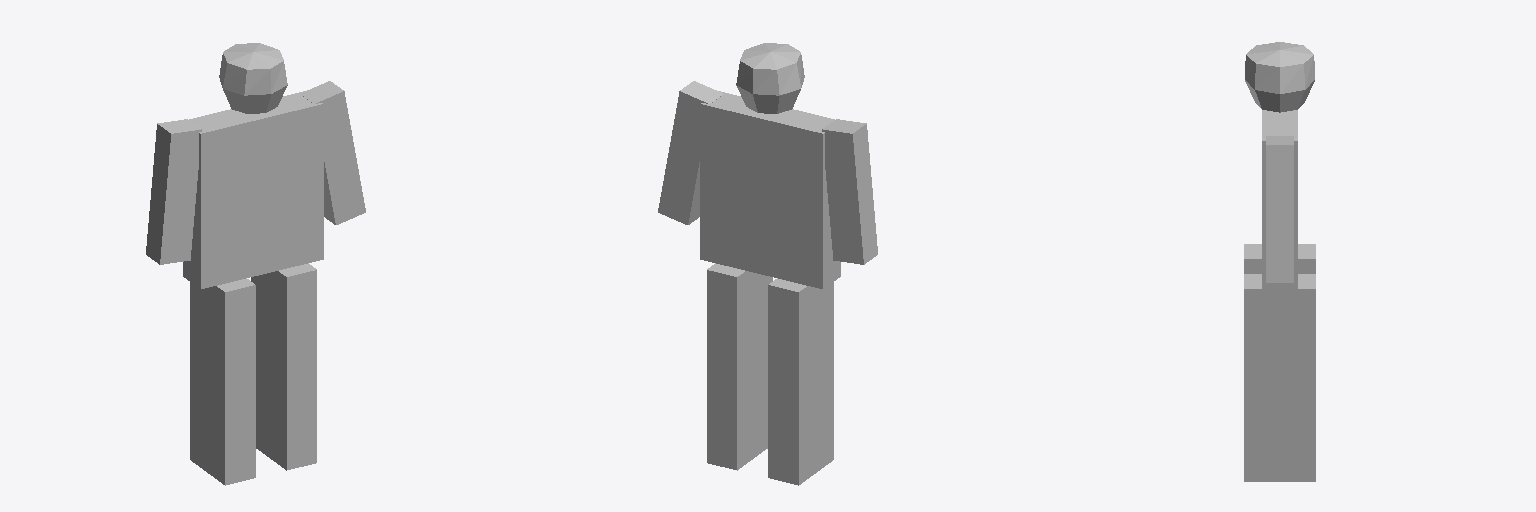
The model's file is Man002.obj.
3 renders of one model, left to right at view 1: azimuth 30°, elevation 25°; view 2: azimuth 150°, elevation 25°; view 3: azimuth 270°, elevation 25°, orthographic.
Parts seen in each view (by area): view 1: Man001; view 2: Man001; view 3: Man001.
Boxes of the visible parts, box(x1,y1,x2,y2) form: Man001: box(146, 43, 365, 485); Man001: box(658, 43, 877, 485); Man001: box(1244, 42, 1315, 481).
Size of the model in its own units: 40.2 by 76.26 by 12.